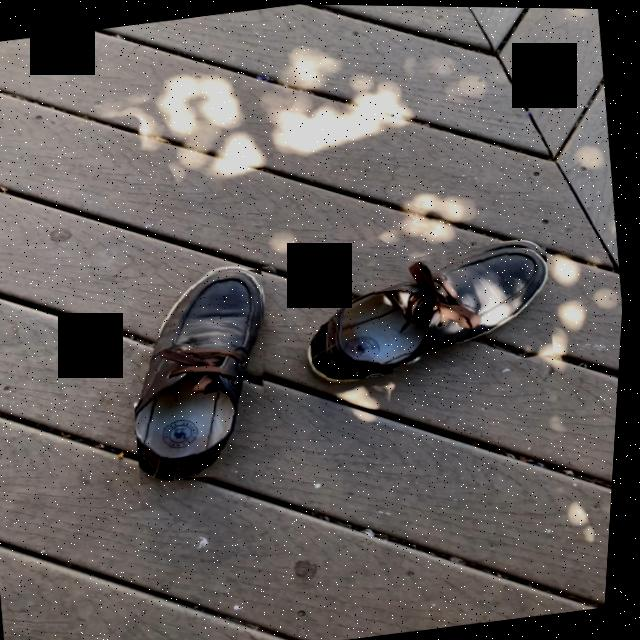shoe: (316, 245, 551, 380), (140, 271, 267, 480)
